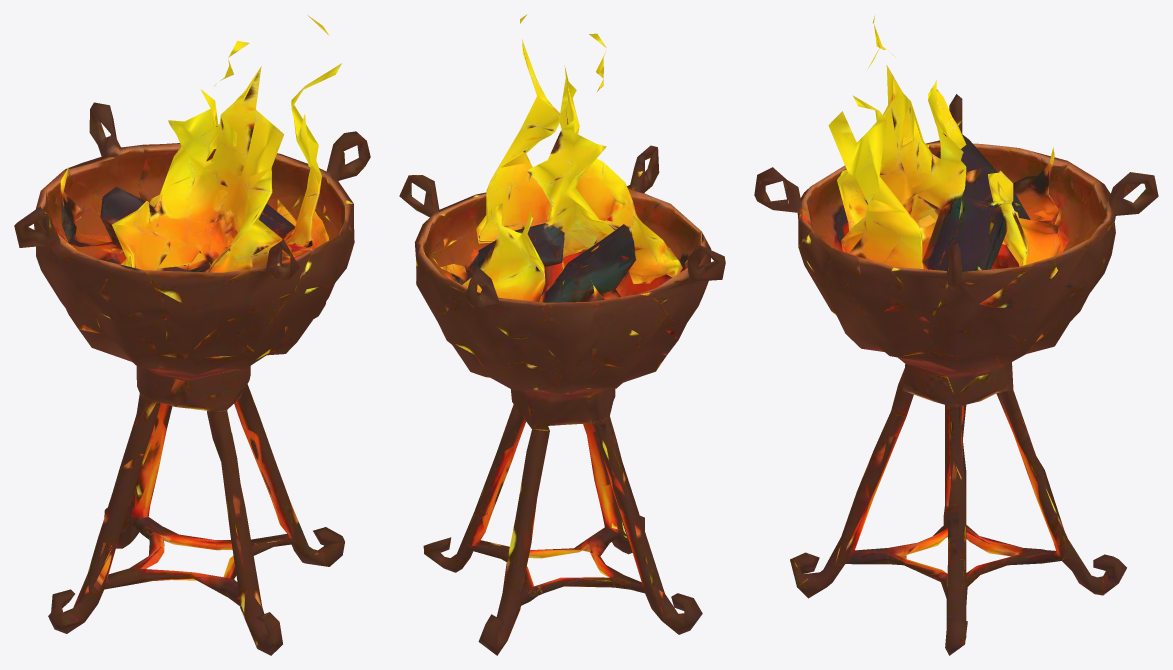
The model's file is brazier.glb.
The picture shows the model from 3 angles, left to right: view 1: azimuth 30°, elevation 25°; view 2: azimuth 150°, elevation 25°; view 3: azimuth 270°, elevation 25°; orthographic projection. The views are drawn at different scales.
Visible parts, largest first — view 1: 0; view 2: 0; view 3: 0.
Part boxes in pixels (<box>): 0: <box>14,15,370,655</box>; 0: <box>399,14,725,655</box>; 0: <box>754,16,1158,655</box>.
Size of the model in its own units: 1.11 by 1.8 by 1.11.
Materials: 1 (1 with a texture image).
